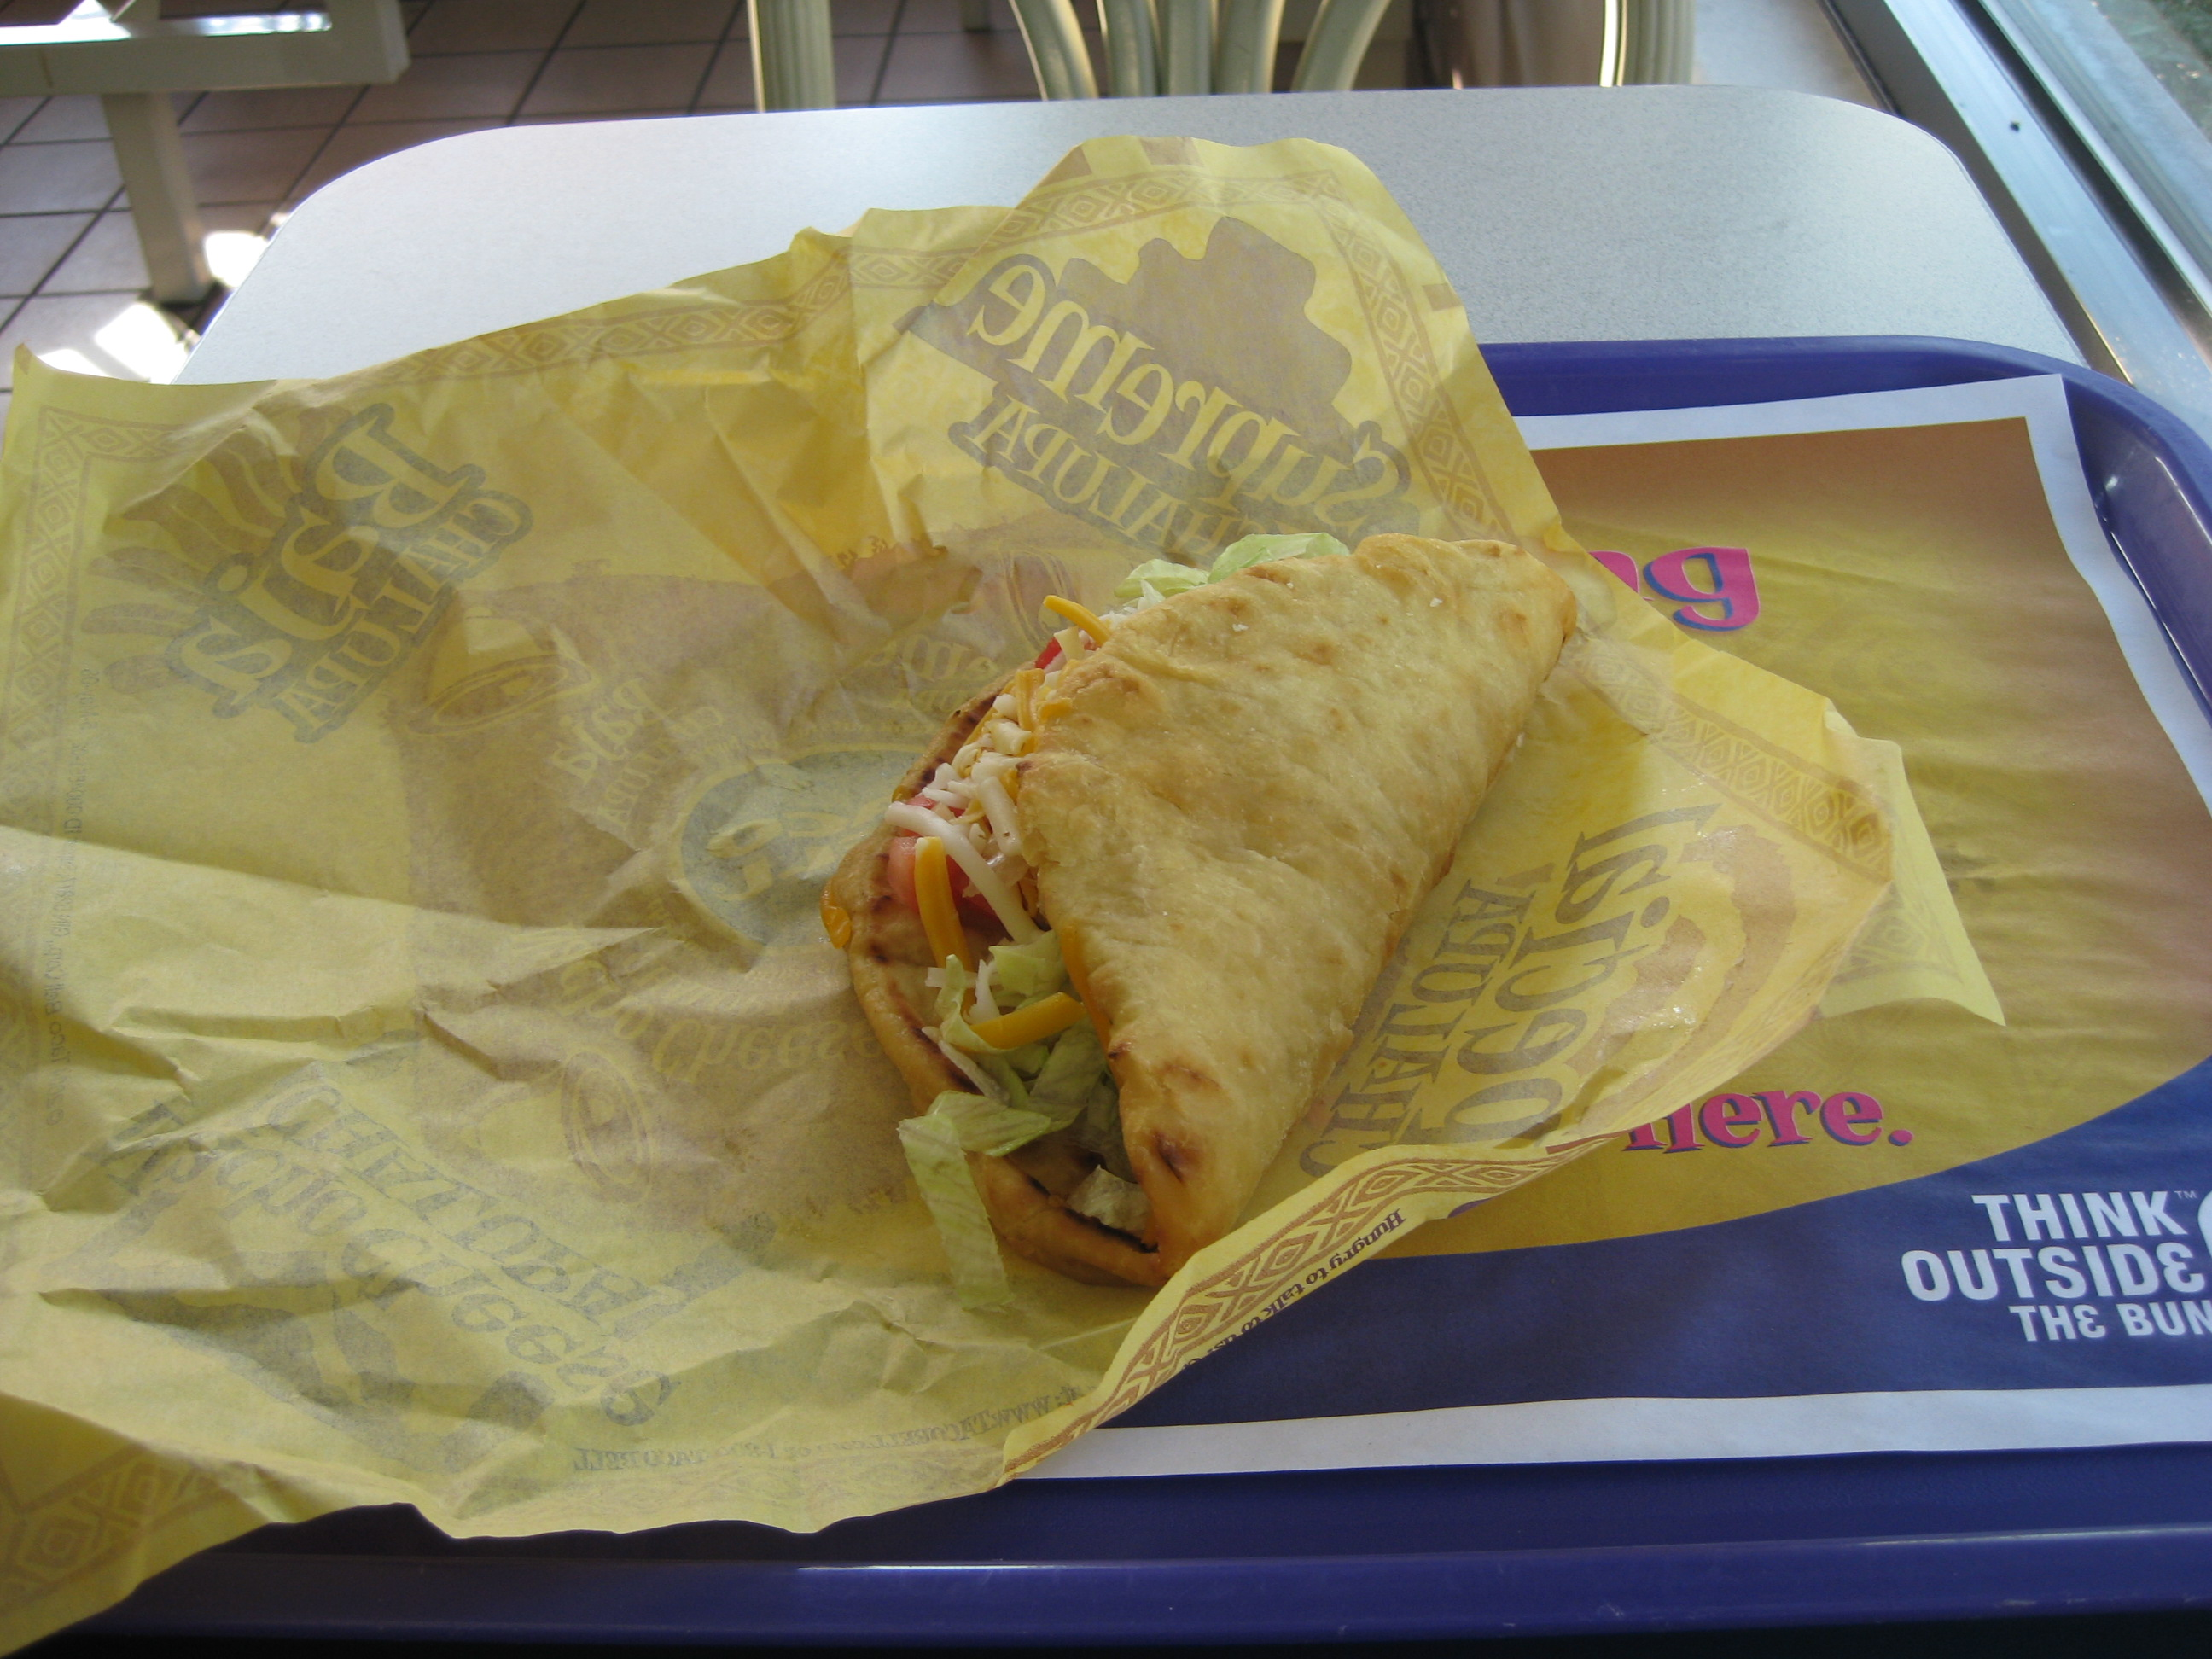taco: (819, 478, 1516, 1280)
